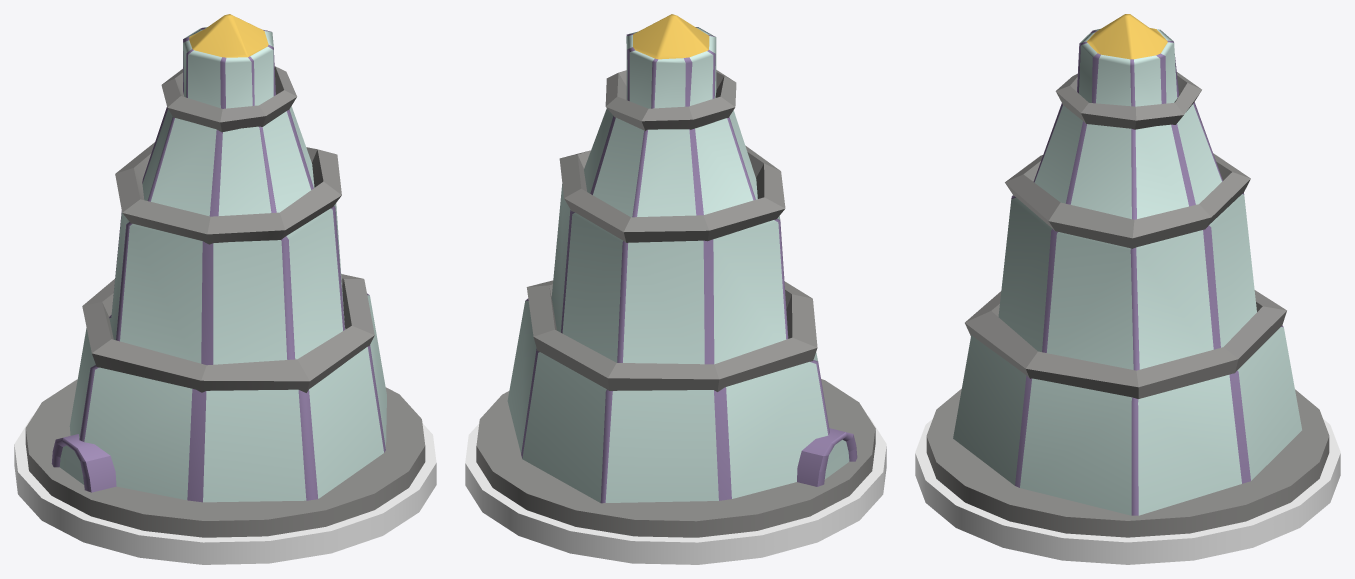
Rendered from Skyskraper_1.fbx.
The picture shows the model from 3 angles, left to right: view 1: azimuth 30°, elevation 25°; view 2: azimuth 150°, elevation 25°; view 3: azimuth 270°, elevation 25°; orthographic projection.
Visible parts, largest first — view 1: Skyskraper_1; view 2: Skyskraper_1; view 3: Skyskraper_1.
Part boxes in pixels (x1,y1,x2,y2): Skyskraper_1: [14, 14, 436, 564]; Skyskraper_1: [465, 14, 886, 564]; Skyskraper_1: [915, 14, 1340, 564].
Bounding box in the file's own units: 1496 × 1496 × 1789.
